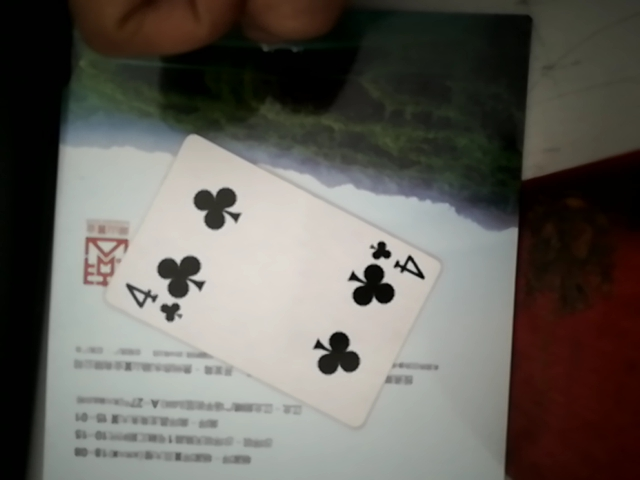mh 4: (72, 131, 450, 415)
